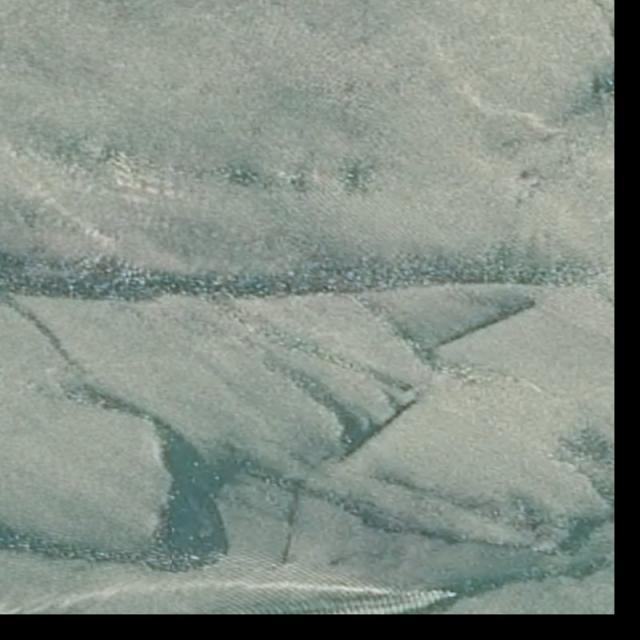ship: (446, 591, 458, 598)
